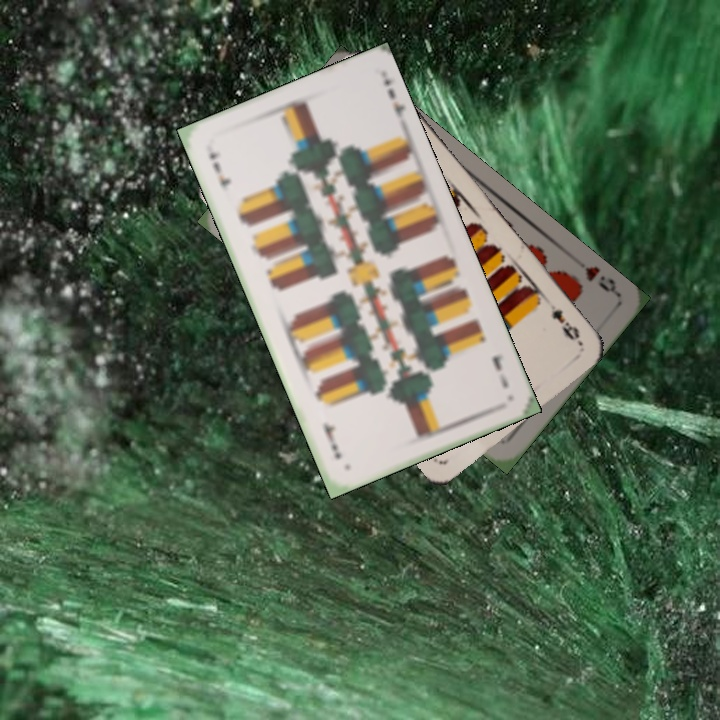E7: (205, 148, 234, 195), (488, 351, 511, 390)
E9: (546, 300, 584, 346)
H9: (580, 262, 621, 298)
